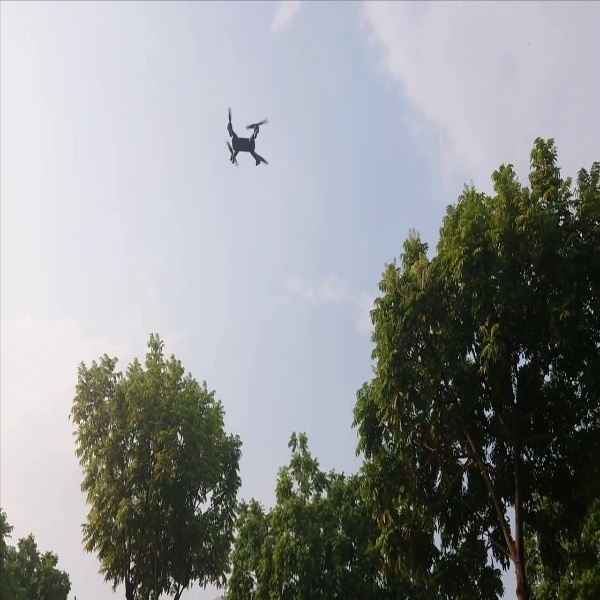drone: (214, 101, 277, 172)
